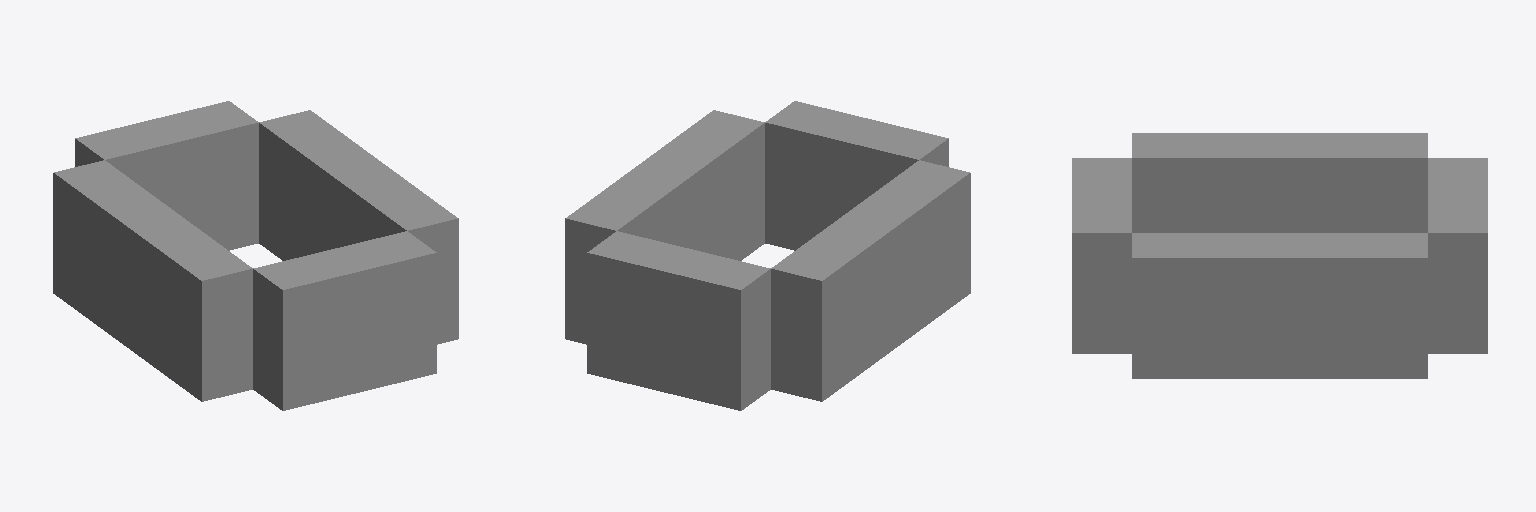
3 renders of one model, left to right at view 1: azimuth 30°, elevation 25°; view 2: azimuth 150°, elevation 25°; view 3: azimuth 270°, elevation 25°, orthographic.
Visible parts, largest first — view 1: O_CUABC.015; view 2: O_CUABC.015; view 3: O_CUABC.015.
Boxes of the visible parts, x1,y1,x2,y2 form: O_CUABC.015: [53, 101, 458, 410]; O_CUABC.015: [565, 101, 970, 410]; O_CUABC.015: [1072, 133, 1487, 378].
Size of the model in its own units: 0.5556 by 0.25 by 0.7778.